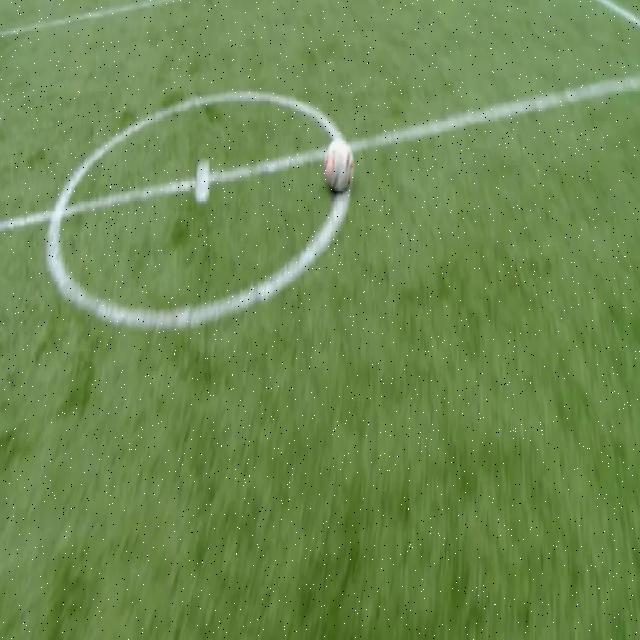ball: (324, 136, 354, 195)
